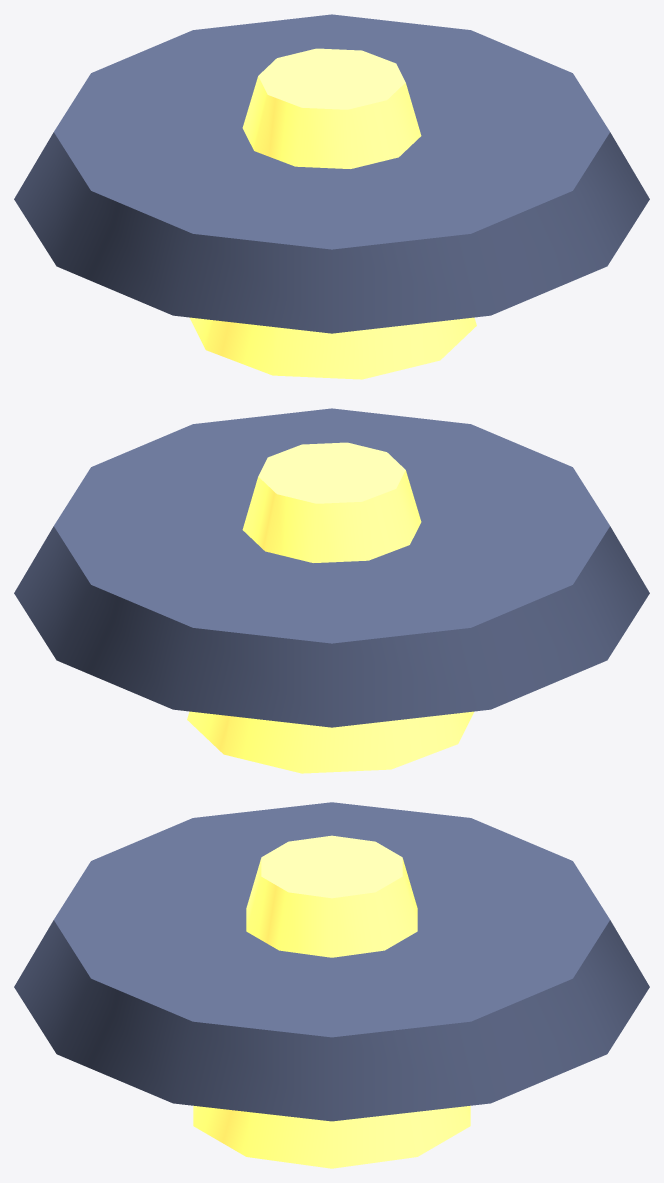
The model's file is hazard_geyser.glb.
The picture shows the model from 3 angles, top to bottom: view 1: azimuth 30°, elevation 25°; view 2: azimuth 150°, elevation 25°; view 3: azimuth 270°, elevation 25°; orthographic projection.
Visible parts, largest first — view 1: GeyserBase, GeyserJet; view 2: GeyserBase, GeyserJet; view 3: GeyserBase, GeyserJet.
Boxes of the visible parts, x1,y1,x2,y2 form: GeyserBase: (14, 14, 649, 333); GeyserJet: (190, 48, 476, 379); GeyserBase: (14, 408, 649, 727); GeyserJet: (187, 442, 473, 773); GeyserBase: (14, 802, 649, 1121); GeyserJet: (193, 835, 470, 1168).
Bounding box in the file's own units: 2.4 × 1 × 2.4.
